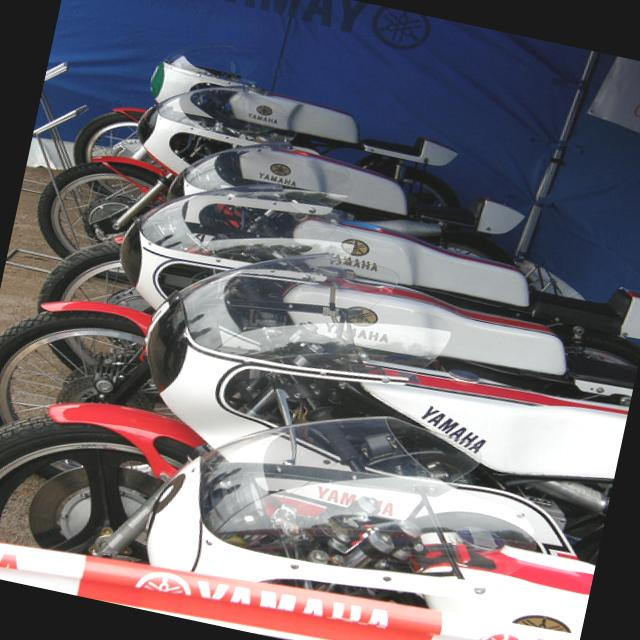Vehicle: (0, 190, 640, 640), (0, 125, 640, 563), (29, 50, 550, 352), (69, 17, 492, 246)
